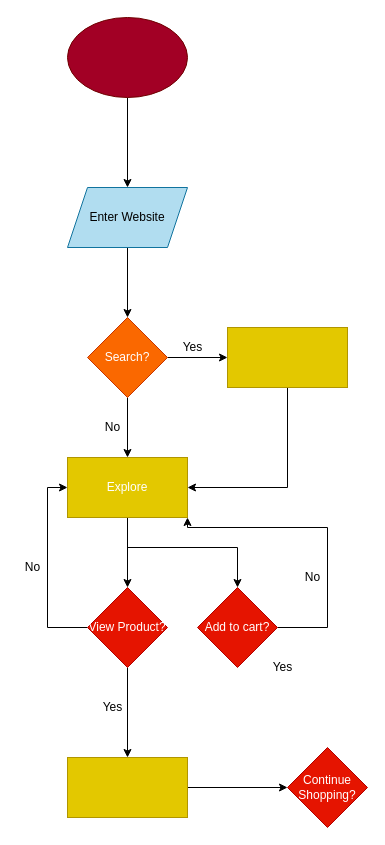
The diagram is 385 pixels wide and 845 high, and some of its shapes have lost their labels. Here are the shapes that lost their labels. From the top down, the centre of each, then its label:
At [127,57]: "Start".
At [287,357]: "input search".
At [127,787]: "Go to webpage for product".
